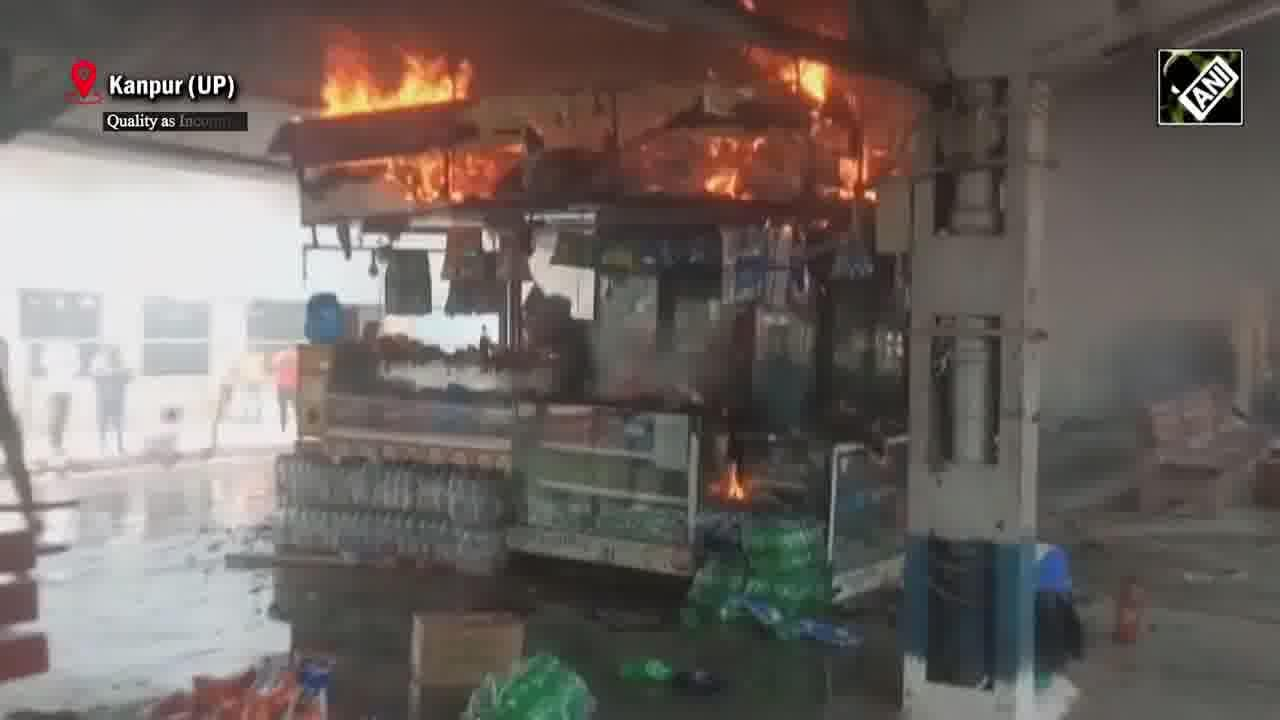fire: (322, 38, 483, 115), (398, 153, 501, 197), (783, 56, 860, 111)
